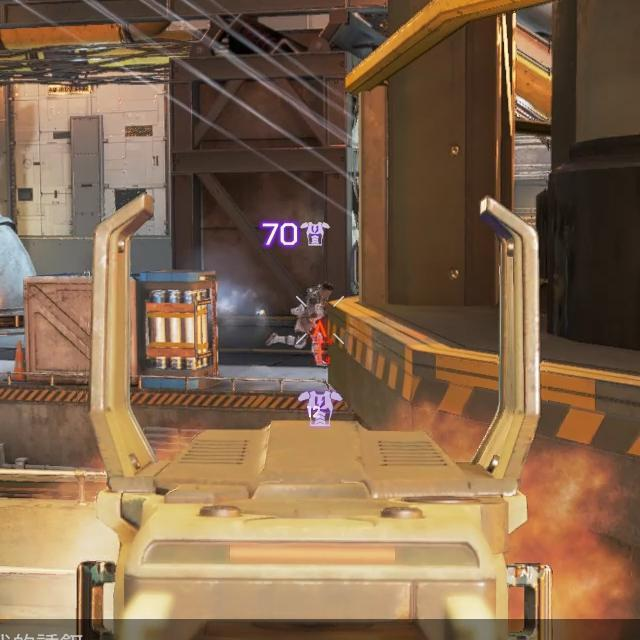avatar: (292, 280, 336, 368)
